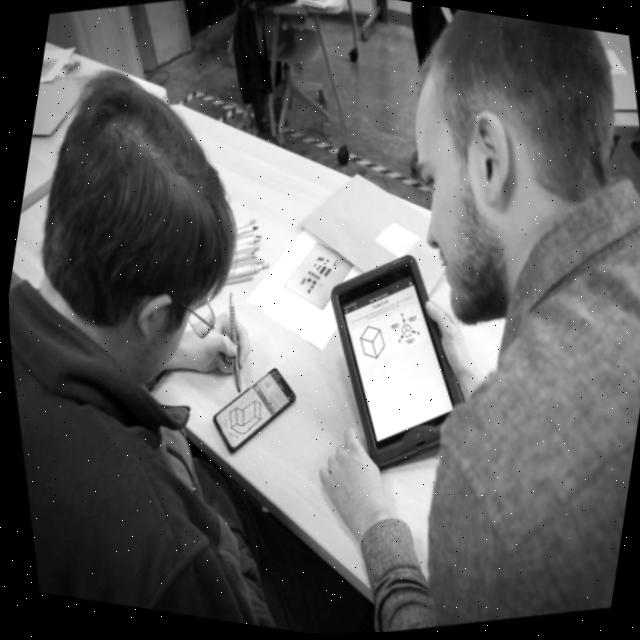phone: (288, 230, 504, 495), (190, 351, 312, 470)
